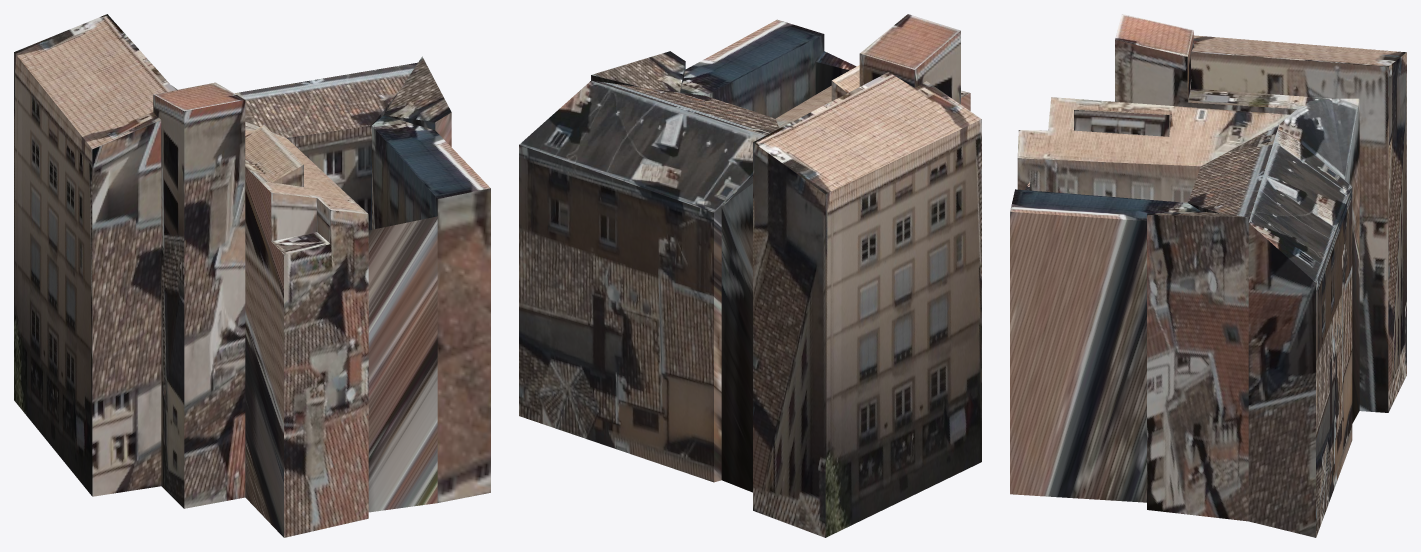
3 renders of one model, left to right at view 1: azimuth 30°, elevation 25°; view 2: azimuth 150°, elevation 25°; view 3: azimuth 270°, elevation 25°, orthographic. The views are drawn at different scales.
Parts seen in each view (by area): view 1: Z_UP; view 2: Z_UP; view 3: Z_UP.
Part boxes in pixels (box(x1,y1,x2,y2)): Z_UP: box(14, 14, 490, 537); Z_UP: box(519, 14, 981, 537); Z_UP: box(1010, 14, 1406, 537).
Size of the model in its own units: 26.92 by 25.61 by 24.97.
Materials: 2 (1 with a texture image).
